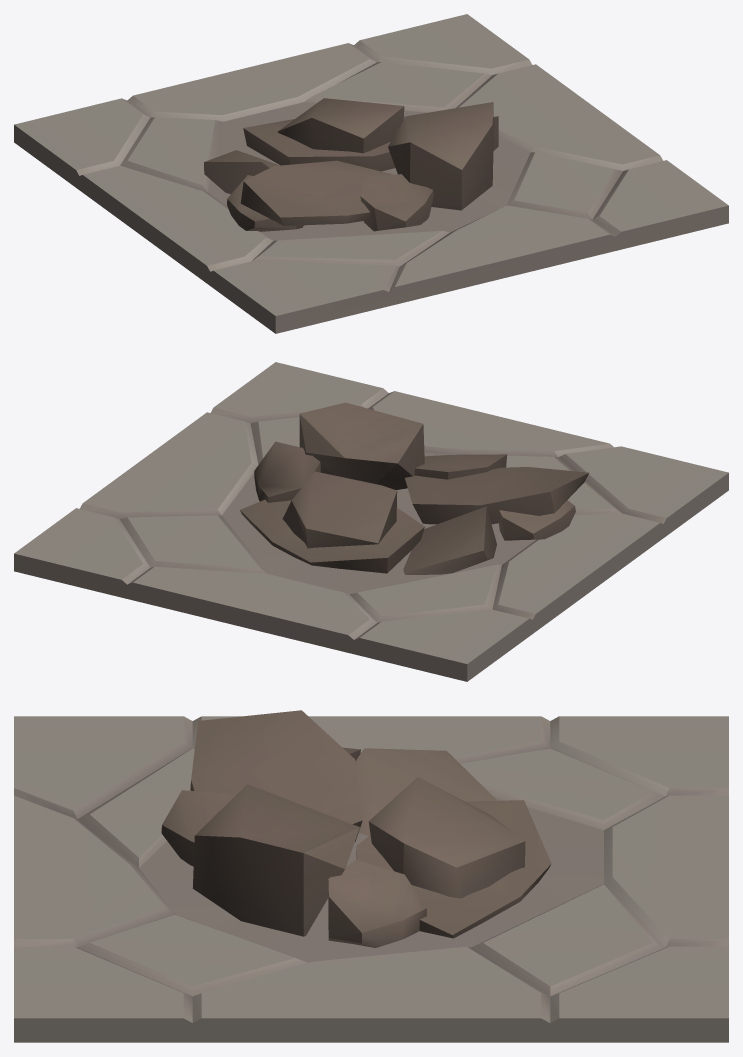
The model's file is kaykit-dungeon-remastered-floor-tile-large-rocks-gltf.glb.
3 renders of one model, top to bottom at view 1: azimuth 30°, elevation 25°; view 2: azimuth 150°, elevation 25°; view 3: azimuth 270°, elevation 25°, orthographic. The views are drawn at different scales.
Visible parts, largest first — view 1: floor_tile_large_rocks; view 2: floor_tile_large_rocks; view 3: floor_tile_large_rocks.
Part boxes in pixels (box(x1,y1,x2,y2)): floor_tile_large_rocks: box(14, 14, 728, 333); floor_tile_large_rocks: box(14, 362, 728, 681); floor_tile_large_rocks: box(14, 710, 728, 1042).
Bounding box in the file's own units: 4 × 0.6362 × 4.
Materials: 1 (1 with a texture image).
